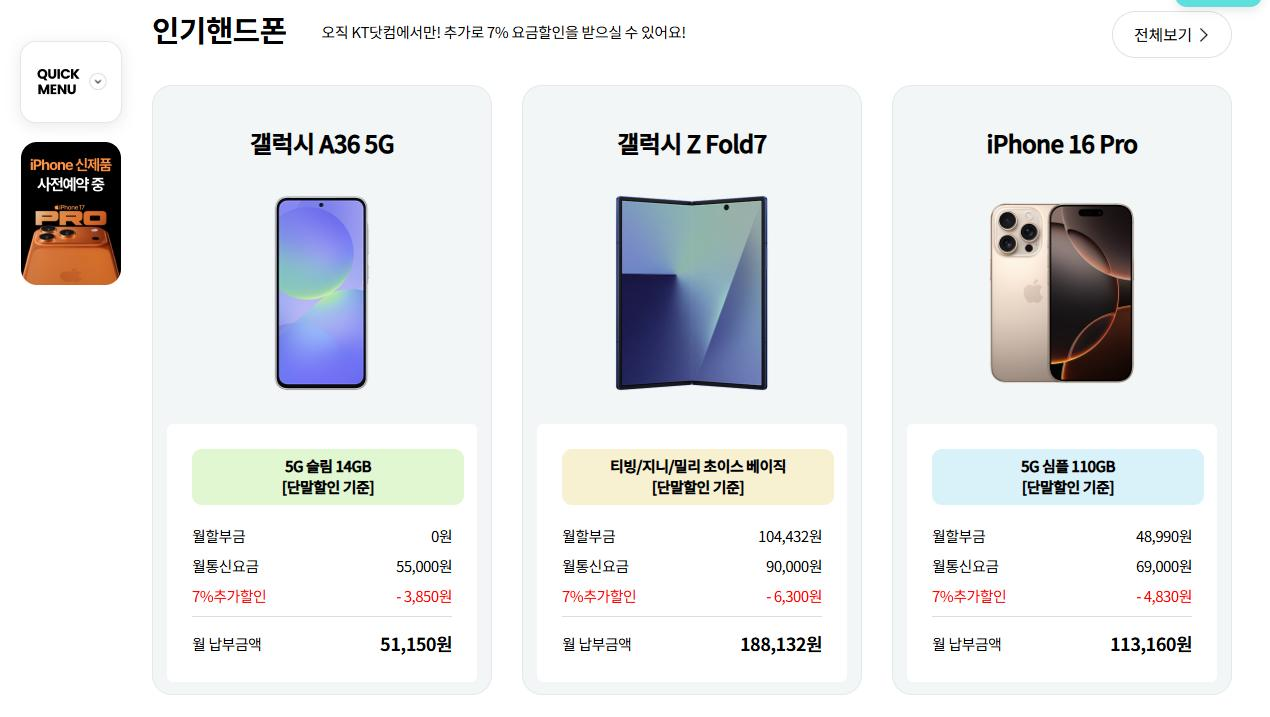button: (186, 438, 459, 510), (560, 451, 833, 509), (934, 450, 1201, 505), (1119, 14, 1231, 60)
checkbox: (18, 45, 120, 128)
